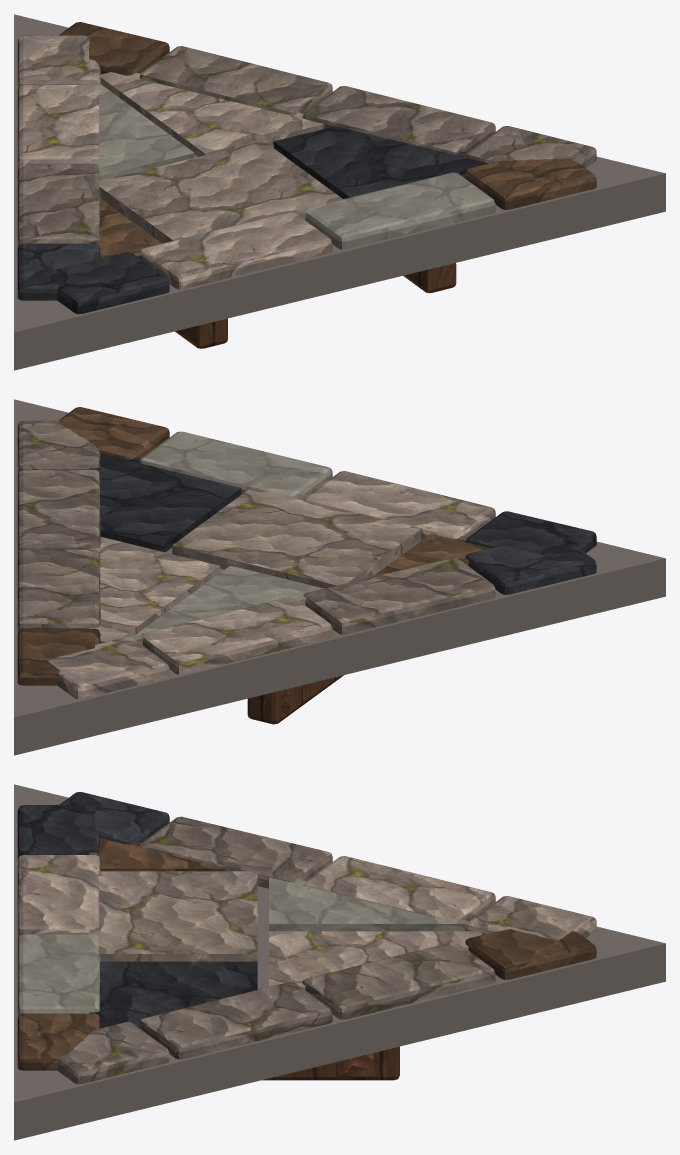
The model's file is floor_triangle__cut_stone.glb.
3 renders of one model, top to bottom at view 1: azimuth 30°, elevation 25°; view 2: azimuth 150°, elevation 25°; view 3: azimuth 270°, elevation 25°, orthographic.
Visible parts, largest first — view 1: model; view 2: model; view 3: model.
Boxes of the visible parts, x1=… form: model: x1=14, y1=14, x2=665, y2=370; model: x1=14, y1=399, x2=665, y2=755; model: x1=14, y1=784, x2=665, y2=1140.
Size of the model in its own units: 2 by 0.2617 by 1.73.
11 materials, 10 textured.
